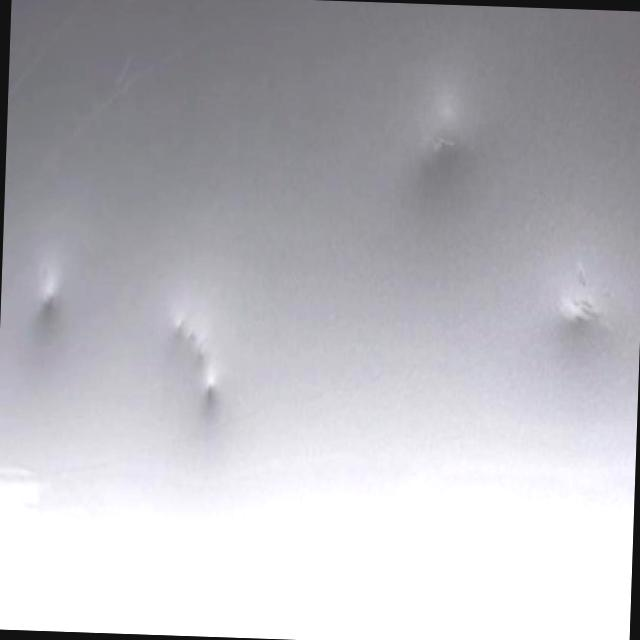dent: (126, 264, 244, 448), (513, 237, 613, 332), (403, 86, 475, 180), (0, 227, 73, 313)
